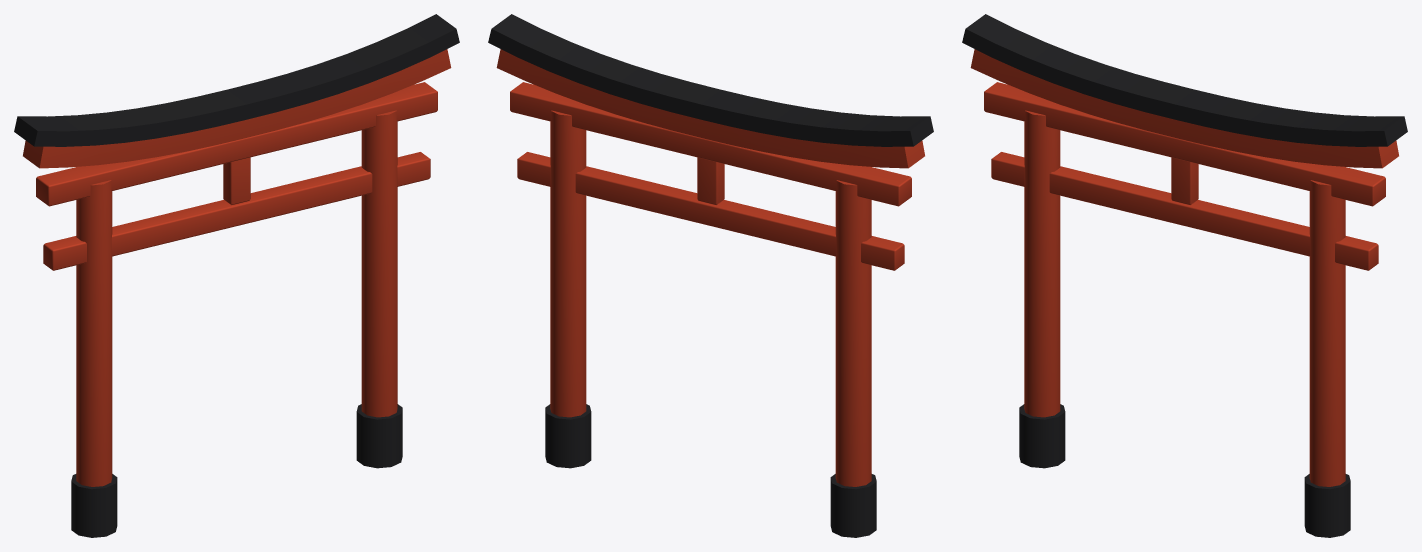
Rendered from ToriiKM.fbx.
The picture shows the model from 3 angles, left to right: view 1: azimuth 30°, elevation 25°; view 2: azimuth 150°, elevation 25°; view 3: azimuth 330°, elevation 25°; orthographic projection.
Visible parts, largest first — view 1: ToriiKM; view 2: ToriiKM; view 3: ToriiKM.
Boxes of the visible parts, <box> form: ToriiKM: <box>14,14,459,537</box>; ToriiKM: <box>488,14,933,537</box>; ToriiKM: <box>962,14,1407,537</box>.
Size of the model in its own units: 4.24 by 4 by 0.406.
